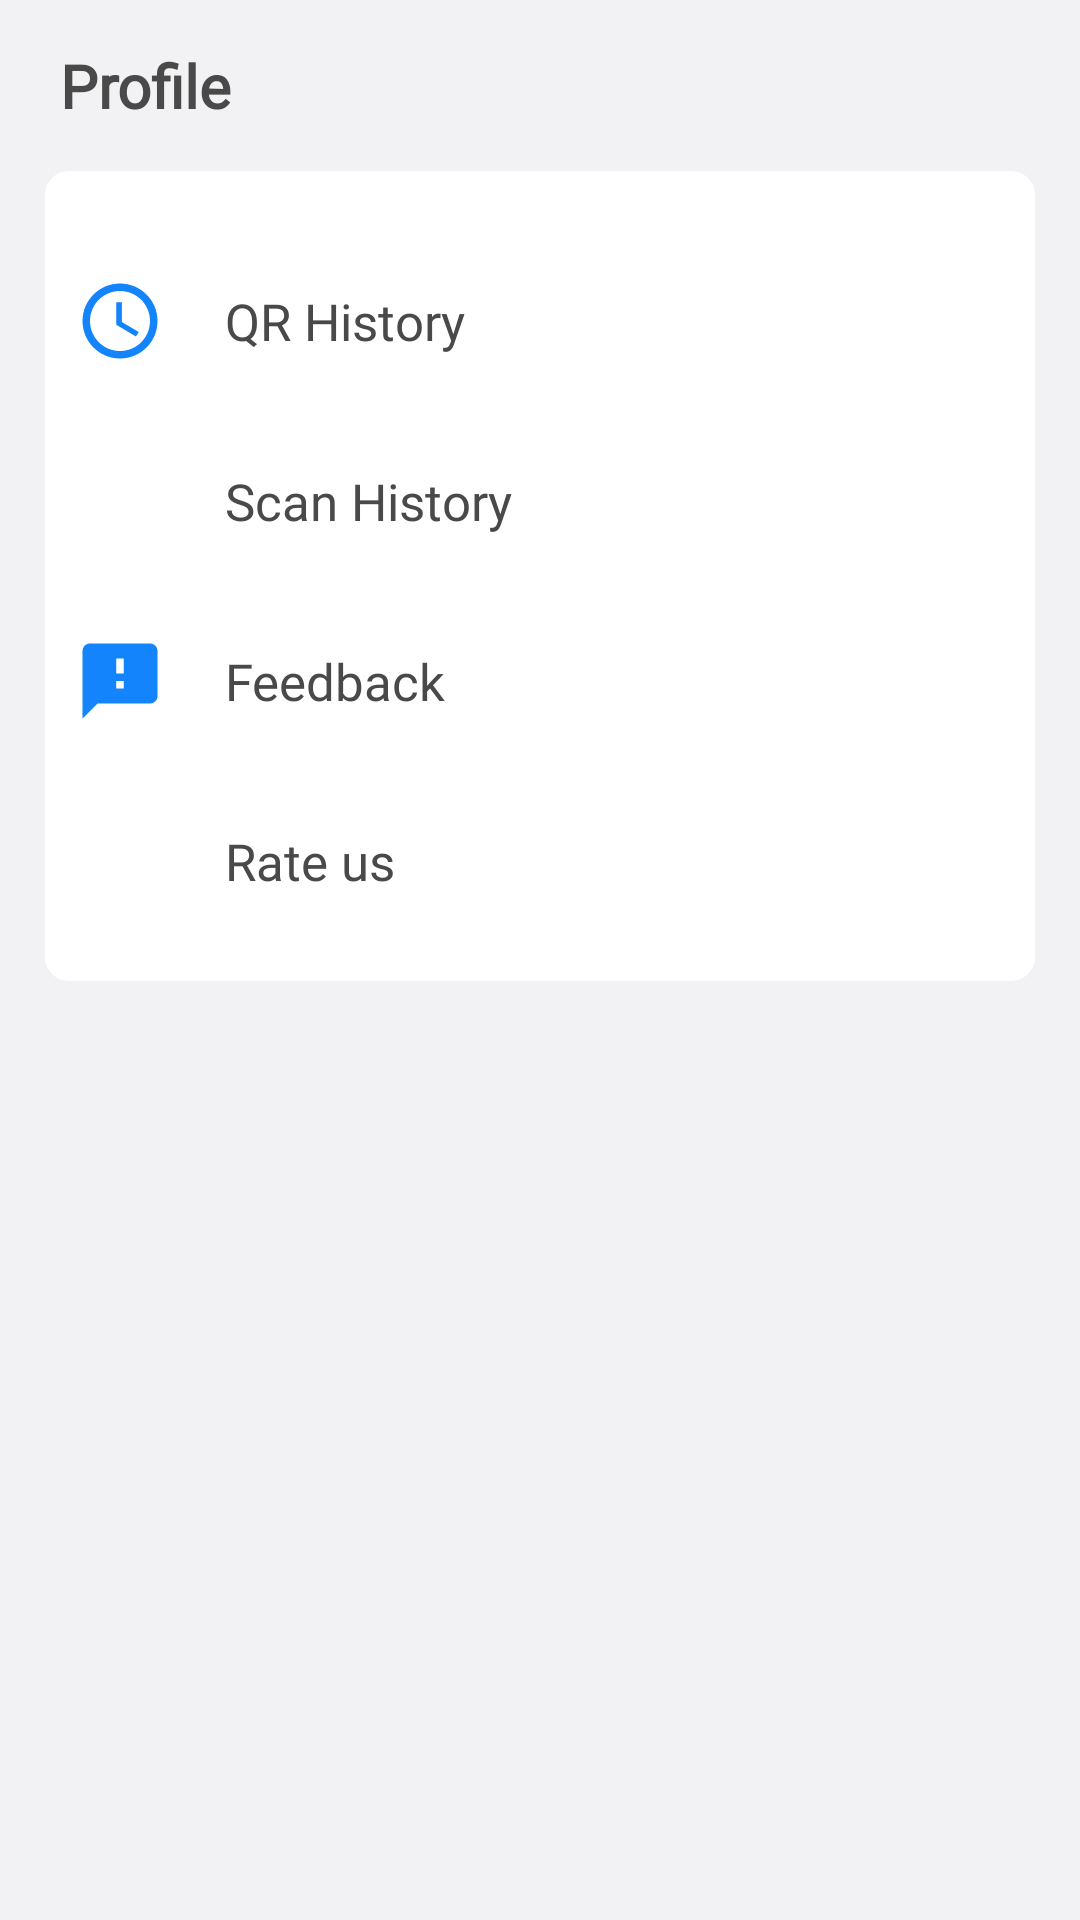

Named icons in this screenshot (1080w x 1920h) and their bounding boxes, bbox=[x1, y1, x2, y2]:
create history: bbox=[82, 283, 158, 359]
